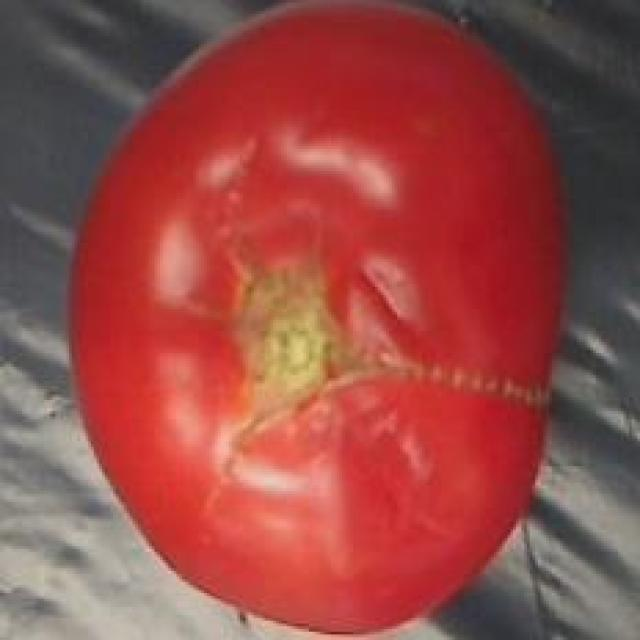overripe tomato: (52, 0, 596, 640)
